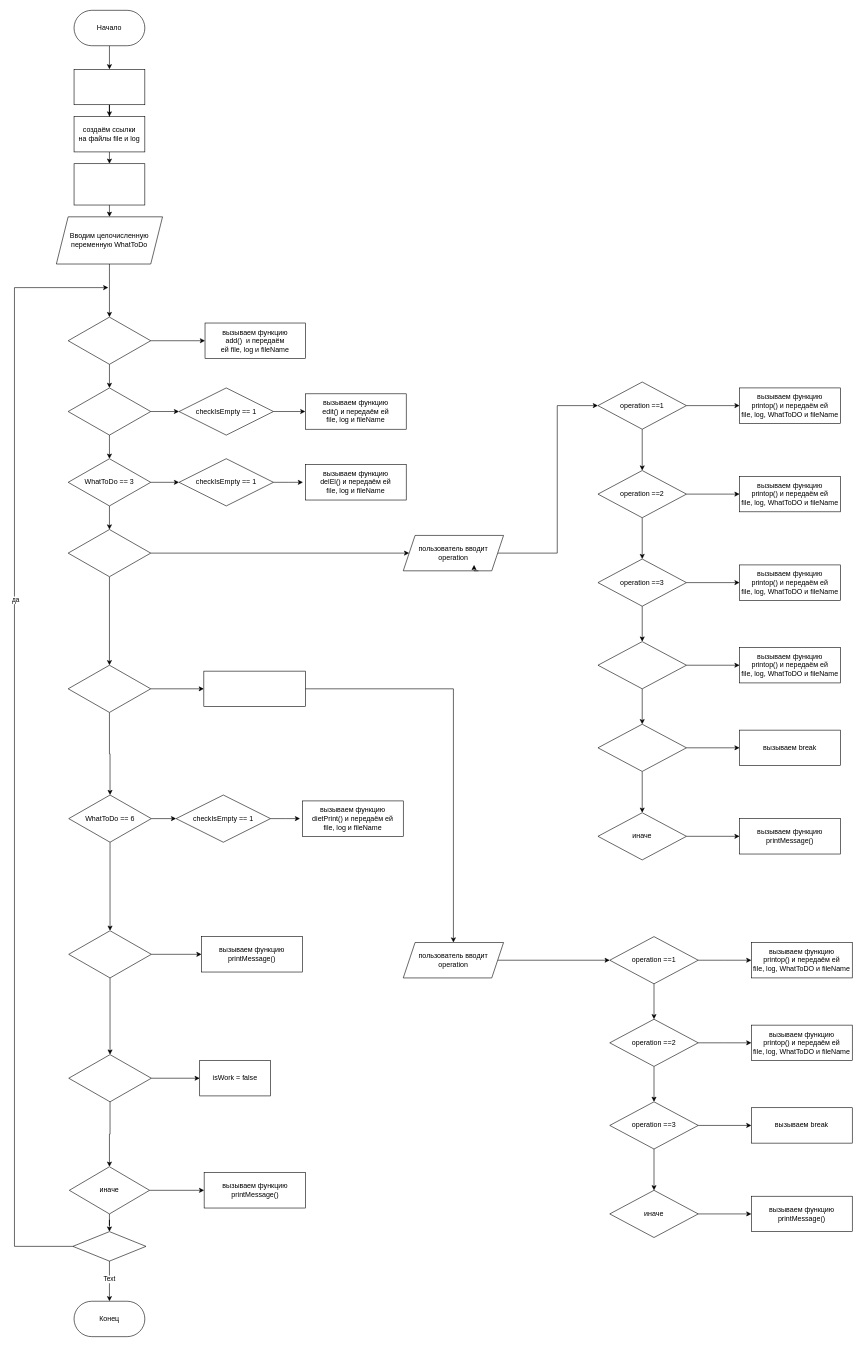
The diagram is 863 pixels wide and 1347 high, and some of its shapes have lost their labels. Each missing label, with the centre of its shape:
isWork == true?: the point at 109,1246
operation ==4: the point at 641,665
operation ==5: the point at 641,747
WhatToDo == 1: the point at 109,340
WhatToDo == 2: the point at 109,411
WhatToDo == 4: the point at 109,553
WhatToDo == 5: the point at 109,688
WhatToDo == 7: the point at 109,954
WhatToDo == 8: the point at 109,1078
вызываем функцию printop() и передаём ей file и WhatToDo: the point at 254,689
просим пользователя ввести имя файла и сохраняем его в fileName: the point at 109,184
создаём булевую переменную isWork и присваиваем ей true: the point at 109,87
